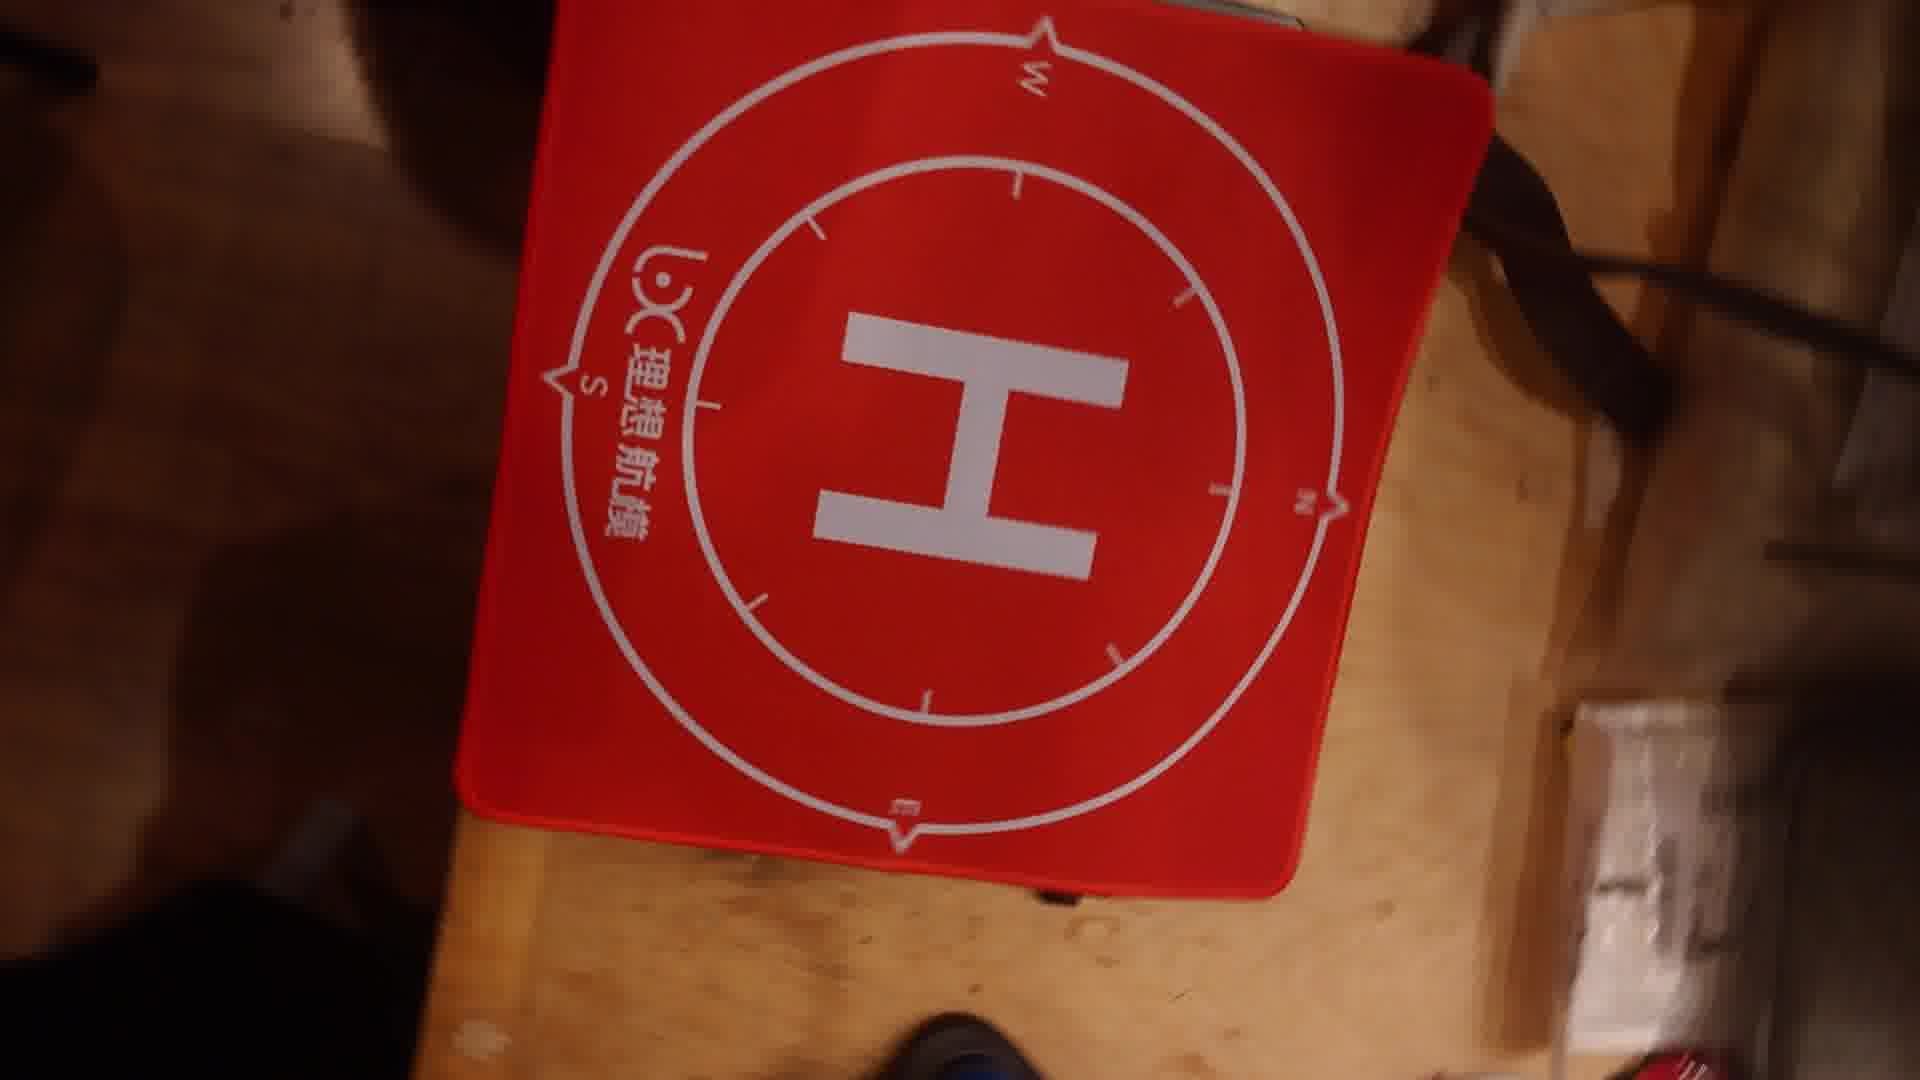H: (814, 313, 1131, 583)
